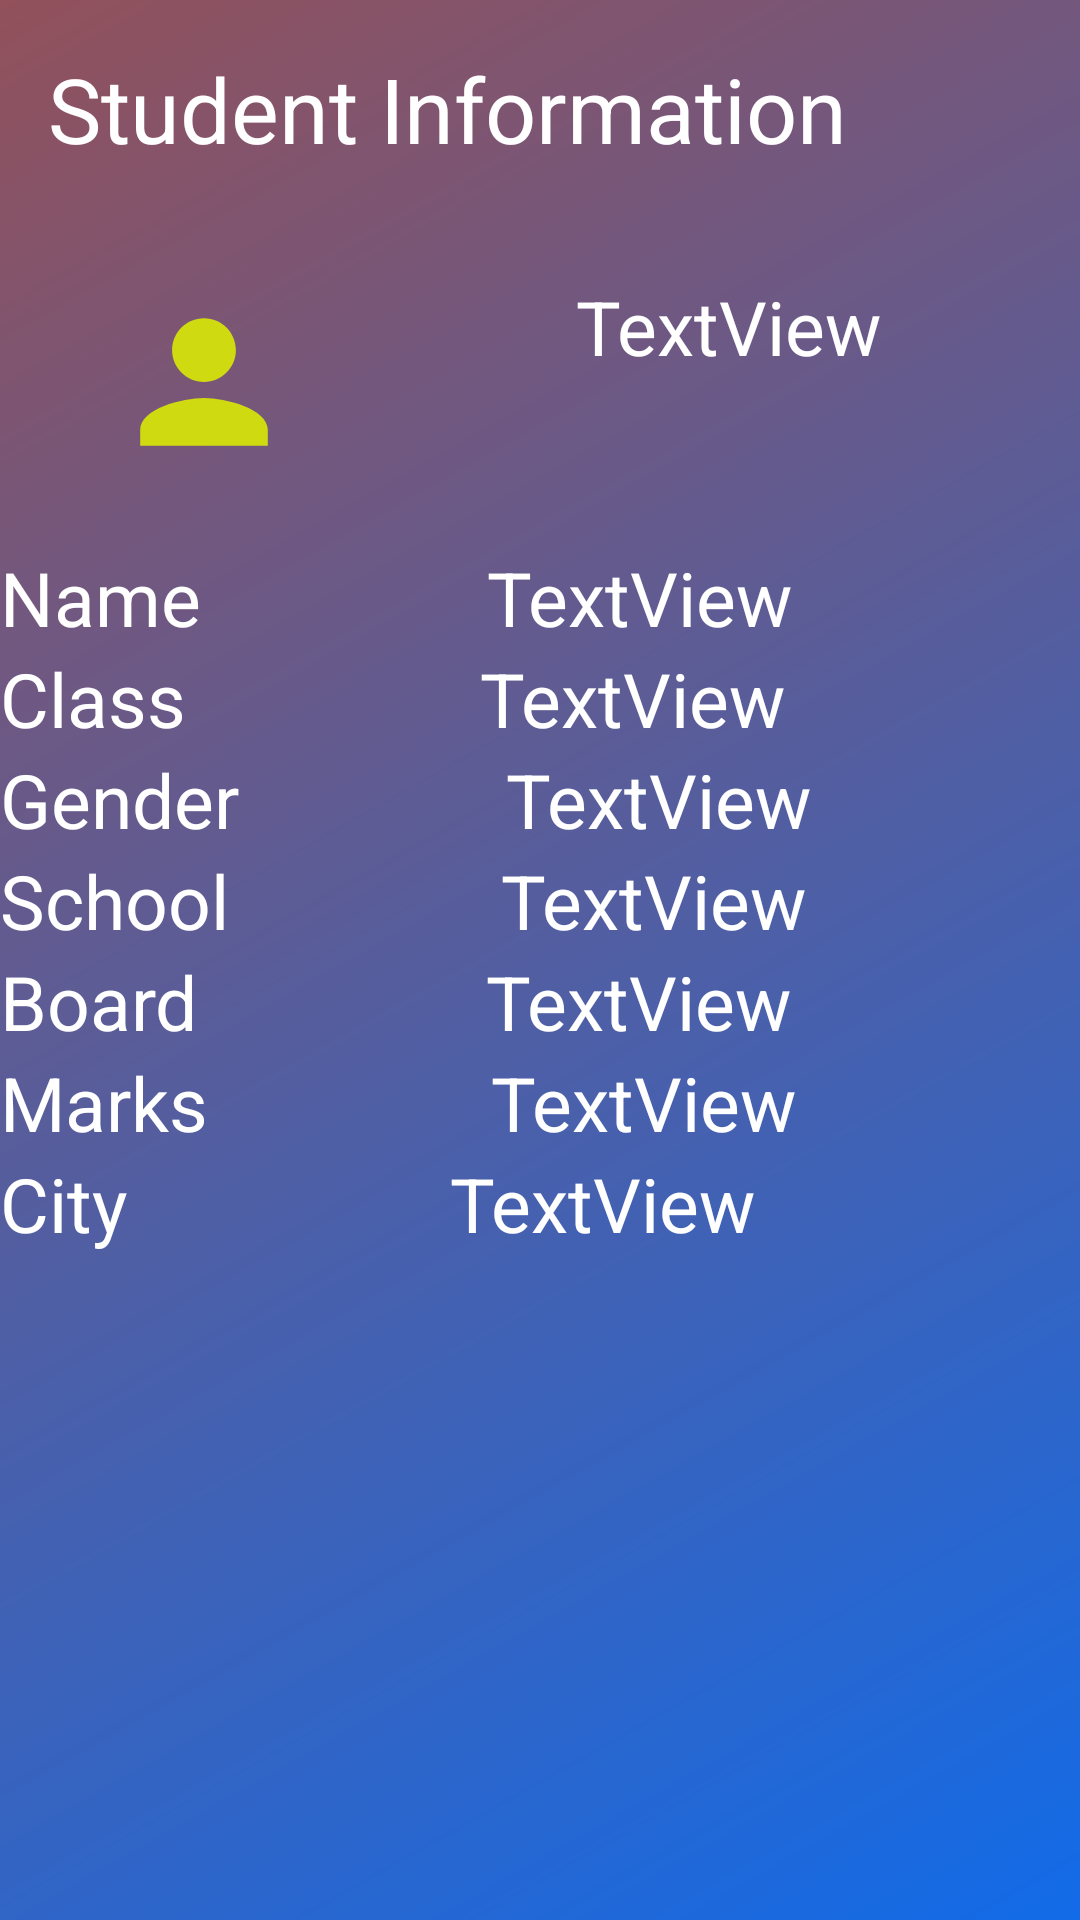

Screen size 1080*1920. Icon name, then its box in pixels as (x1, y1, x2, y2):
clip person: (140, 318, 268, 446)
